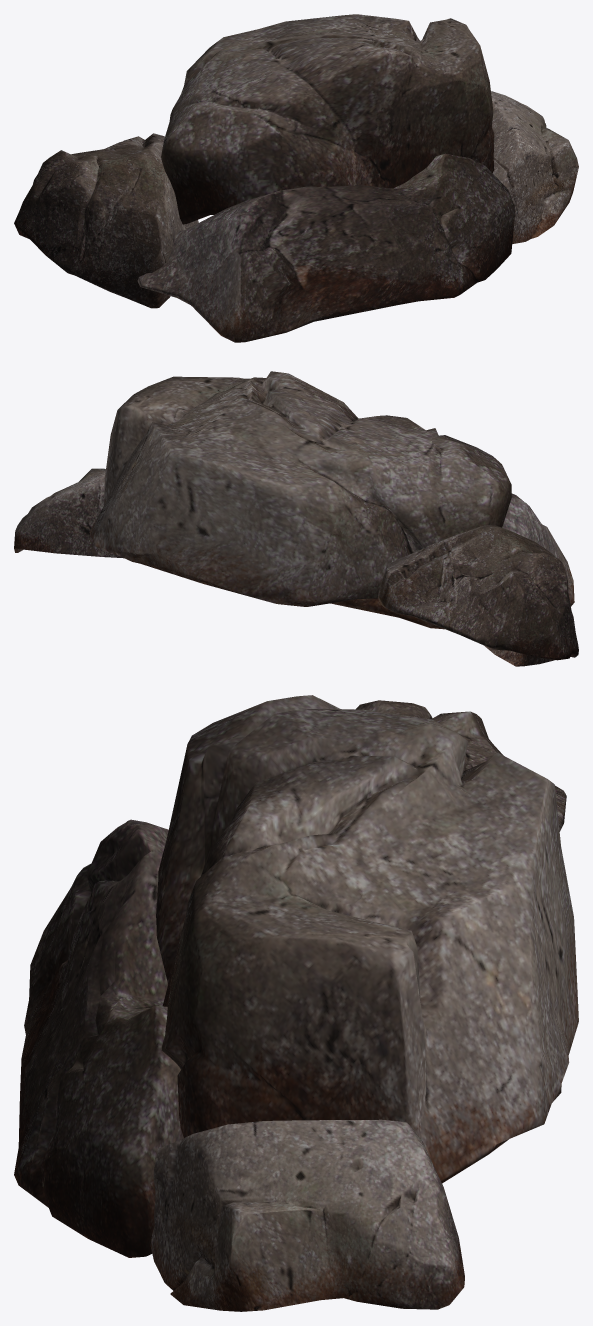
File: Sea_Troll_Rock.fbx
3 renders of one model, top to bottom at view 1: azimuth 30°, elevation 25°; view 2: azimuth 150°, elevation 25°; view 3: azimuth 270°, elevation 25°, orthographic. The views are drawn at different scales.
Visible parts, largest first — view 1: Rock; view 2: Rock; view 3: Rock.
Part boxes in pixels (box(x1,y1,x2,y2)): Rock: box(14, 14, 578, 342); Rock: box(14, 371, 578, 666); Rock: box(14, 695, 578, 1311).
Size of the model in its own units: 365 by 142 by 189.
